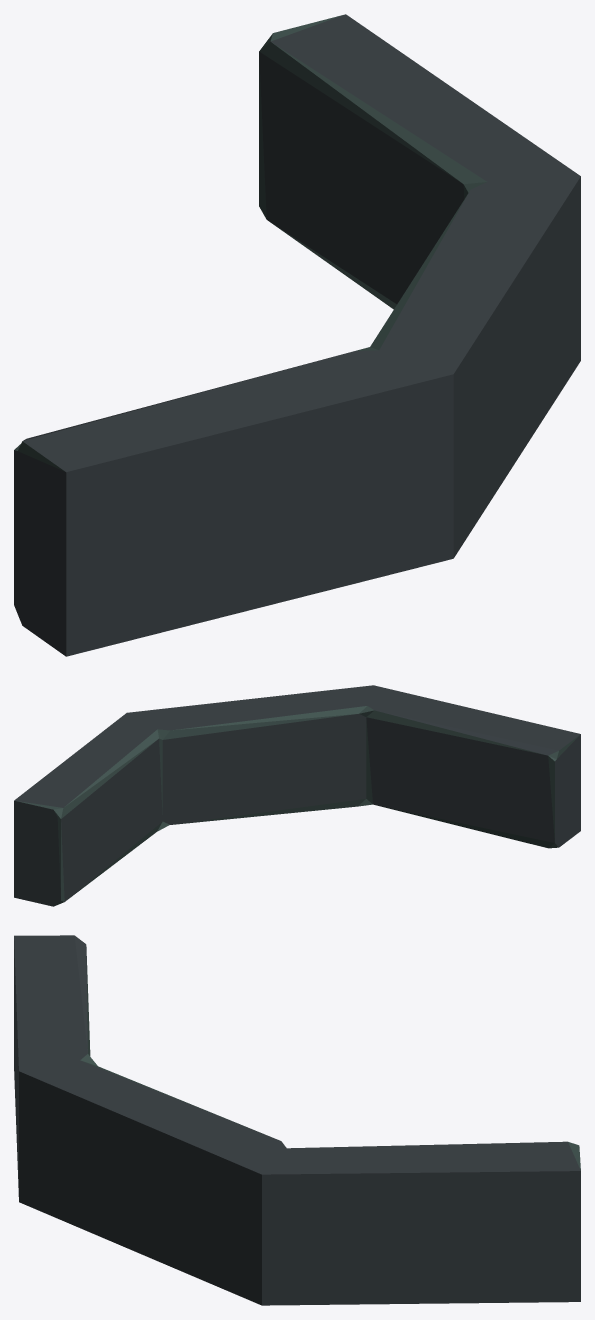
Rendered from MCastle_MetalBorder.FBX.
The picture shows the model from 3 angles, top to bottom: view 1: azimuth 30°, elevation 25°; view 2: azimuth 150°, elevation 25°; view 3: azimuth 270°, elevation 25°; orthographic projection. The views are drawn at different scales.
Parts seen in each view (by area): view 1: BLOCKOUT_MCastle_MetalBorder; view 2: BLOCKOUT_MCastle_MetalBorder; view 3: BLOCKOUT_MCastle_MetalBorder.
Part boxes in pixels (<box>): BLOCKOUT_MCastle_MetalBorder: <box>14,14,580,656</box>; BLOCKOUT_MCastle_MetalBorder: <box>14,685,580,906</box>; BLOCKOUT_MCastle_MetalBorder: <box>14,935,580,1305</box>.
Bounding box in the file's own units: 3.92 × 1 × 3.92.
